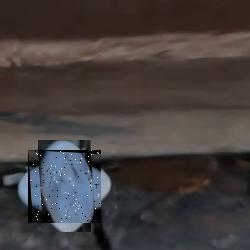plastic: (28, 150, 101, 223)
